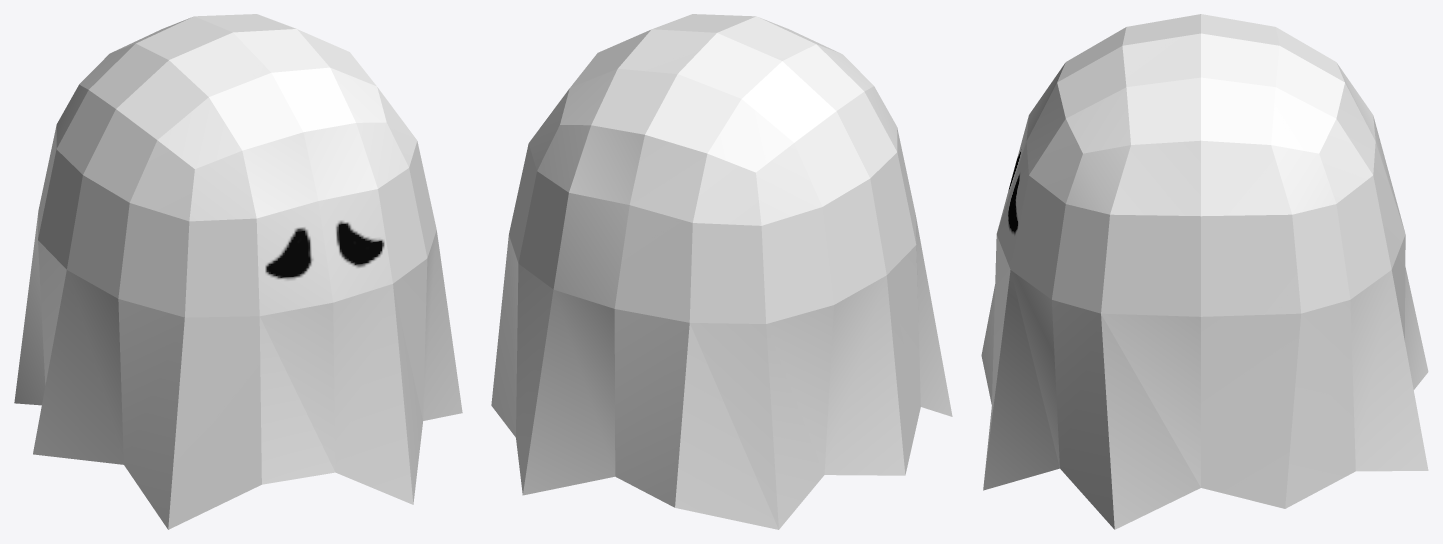
The model's file is smallPlayerGhost.obj.
3 views of the same model, side by side, from view 1: azimuth 30°, elevation 25°; view 2: azimuth 150°, elevation 25°; view 3: azimuth 270°, elevation 25° (orthographic). The views are drawn at different scales.
Parts seen in each view (by area): view 1: Body; view 2: Body; view 3: Body.
Part boxes in pixels (<box>): Body: <box>14,14,462,529</box>; Body: <box>491,14,952,529</box>; Body: <box>981,14,1428,529</box>.
Bounding box in the file's own units: 0.6053 × 0.6283 × 0.6053.
